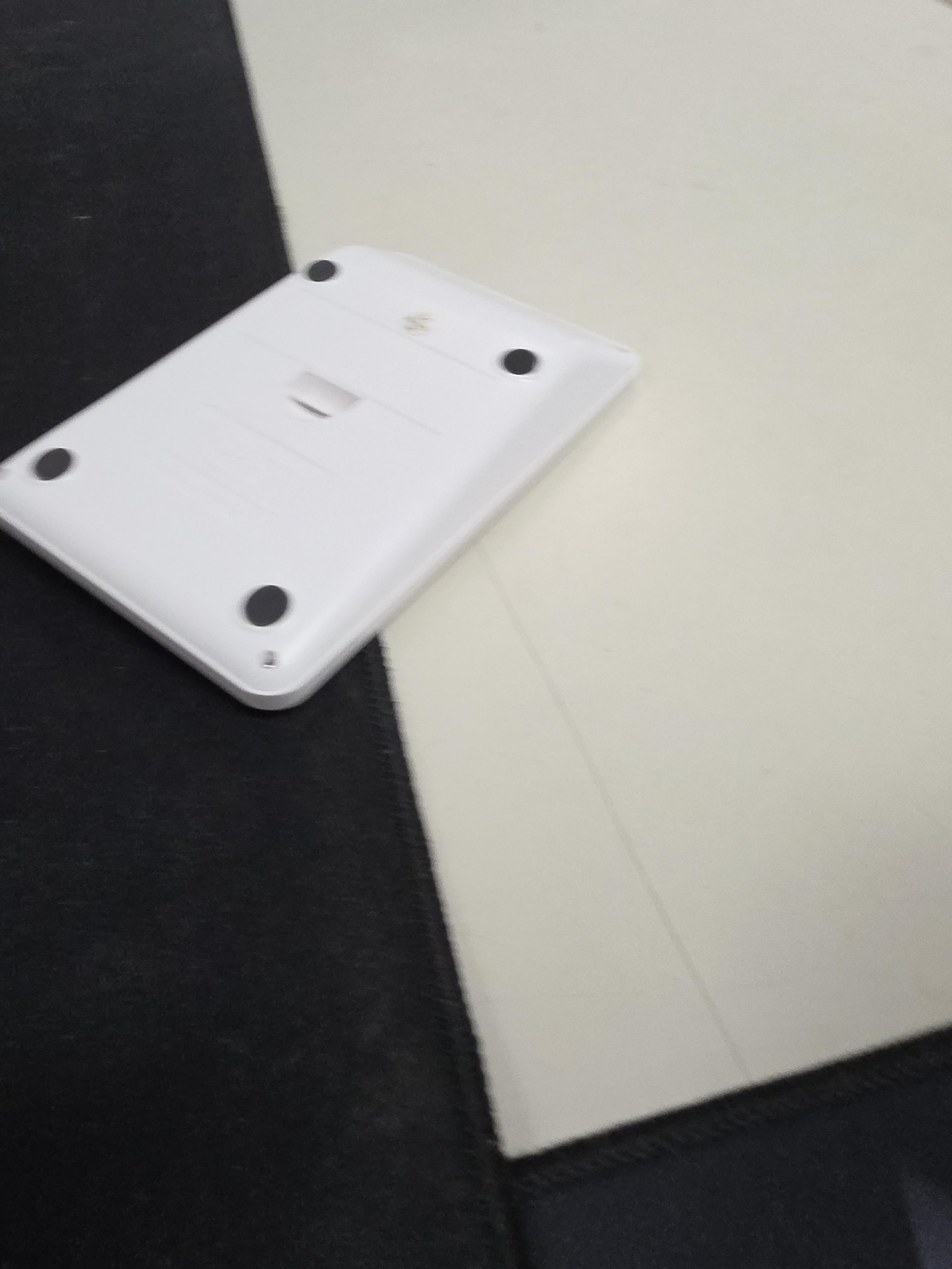calculator: (0, 244, 645, 711)
